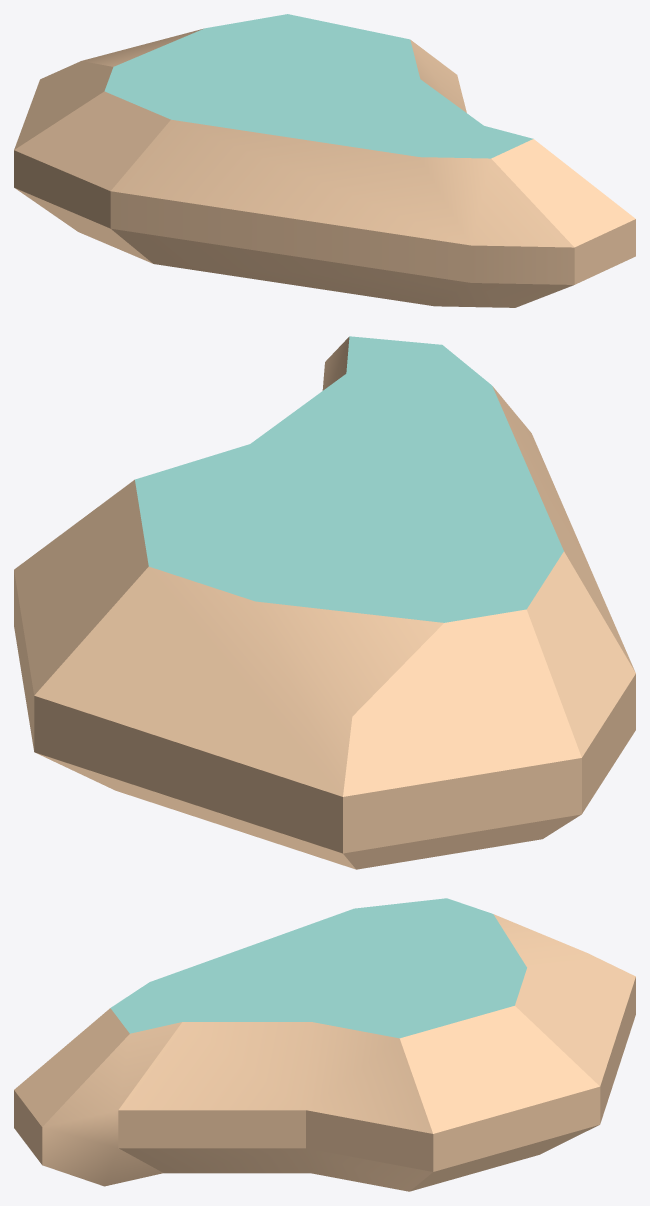
The model's file is rock_large1.gltf.
The picture shows the model from 3 angles, top to bottom: view 1: azimuth 30°, elevation 25°; view 2: azimuth 150°, elevation 25°; view 3: azimuth 270°, elevation 25°; orthographic projection. The views are drawn at different scales.
Visible parts, largest first — view 1: rock_large1; view 2: rock_large1; view 3: rock_large1.
Part boxes in pixels (x1=…): rock_large1: x1=14, y1=14, x2=635, y2=307; rock_large1: x1=14, y1=336, x2=635, y2=869; rock_large1: x1=14, y1=898, x2=635, y2=1191.
Size of the model in its own units: 0.7849 by 0.2598 by 1.02.
